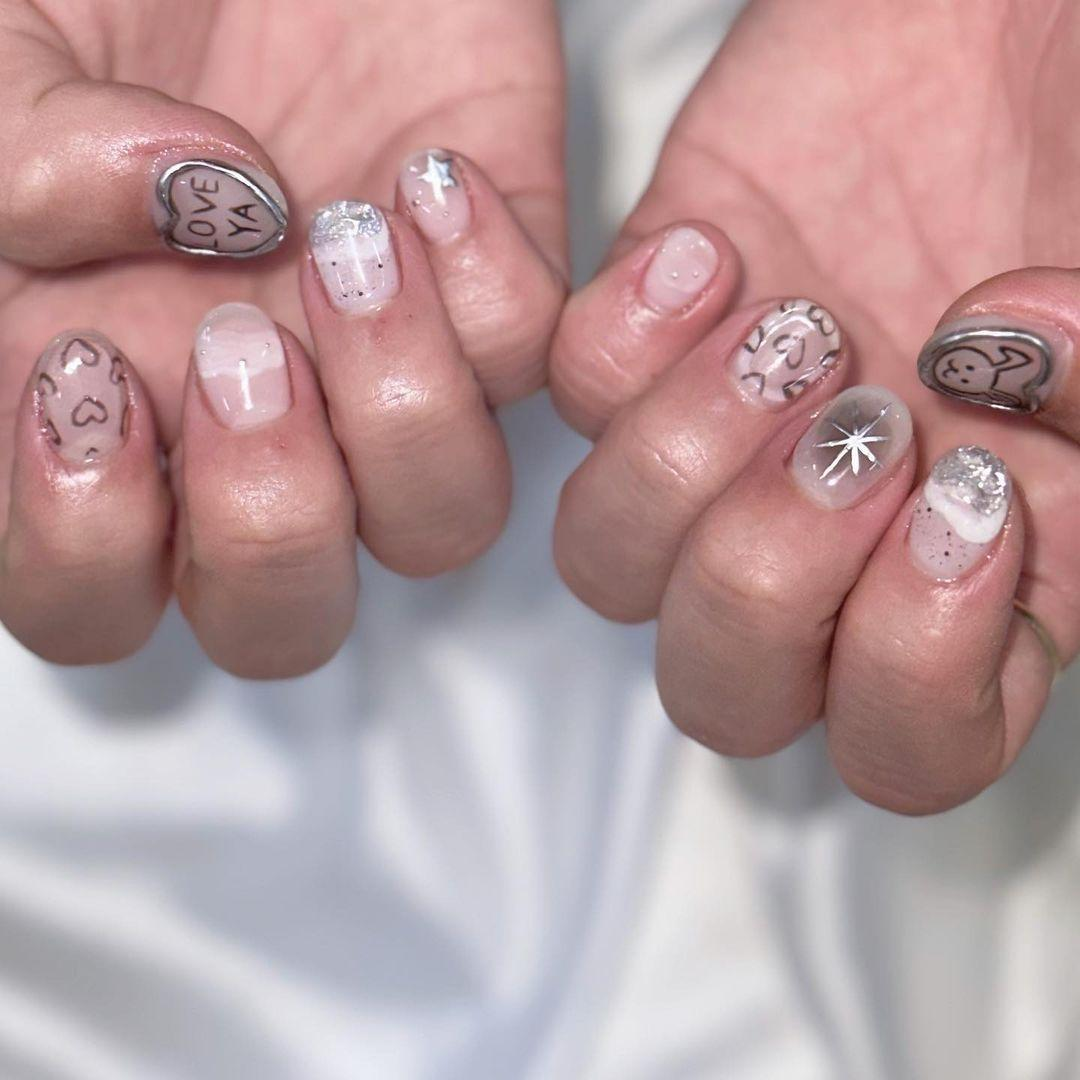nail: (785, 382, 915, 511), (904, 442, 1013, 584), (151, 155, 289, 259), (29, 331, 131, 469), (725, 296, 844, 411), (191, 300, 293, 431), (307, 197, 401, 315), (637, 222, 720, 318), (395, 146, 472, 246)
